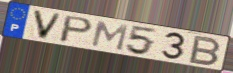3: (159, 31, 188, 62)
5: (125, 24, 160, 56)
B: (187, 35, 223, 67)
M: (89, 20, 130, 52)
P: (57, 14, 96, 44)
V: (31, 9, 64, 42)
